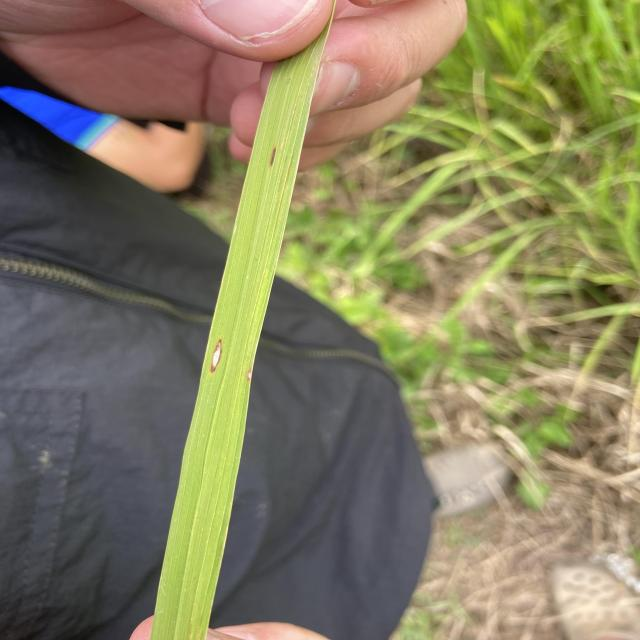Dao on: (210, 338, 222, 373), (247, 365, 253, 381)
